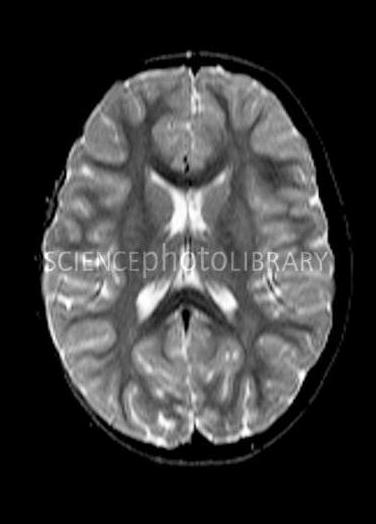Normal_Brain: (1, 8, 356, 524)
